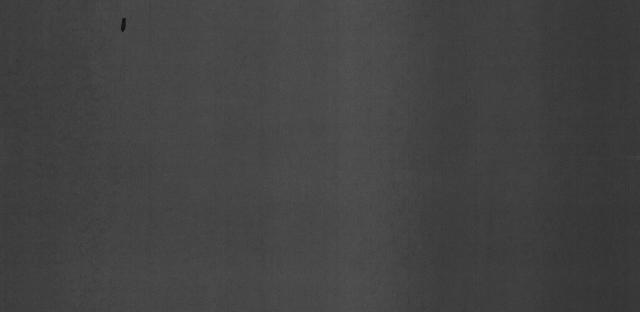inclusion: (117, 10, 130, 43)
